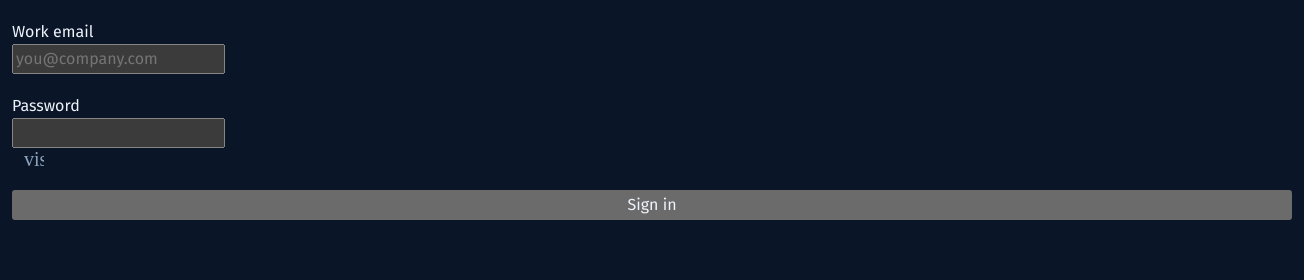
Test: LoginForm › shows a generic message for invalid credentials and re-enables the form
Type "dev@acme.io" into the field labelled "Work email".
click(118, 59); type("dev@acme.io")  # box x1=12 y1=44 x2=225 y2=74
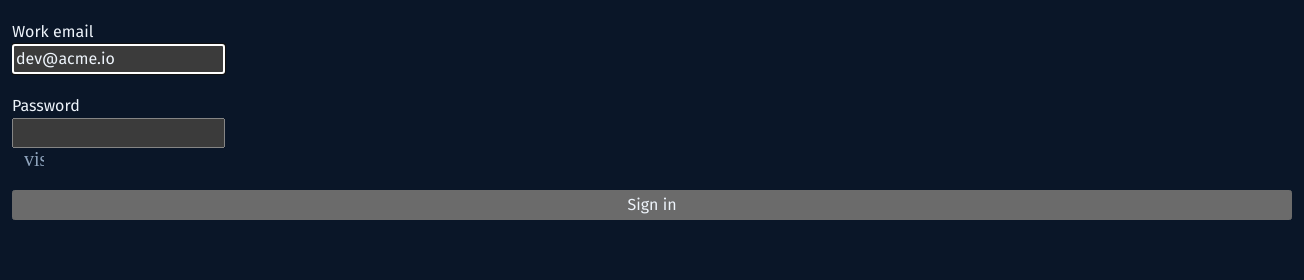
Type "s3cret-pass" into the password field labelled "Password".
click(118, 133); type("s3cret-pass")  # box x1=12 y1=118 x2=225 y2=148
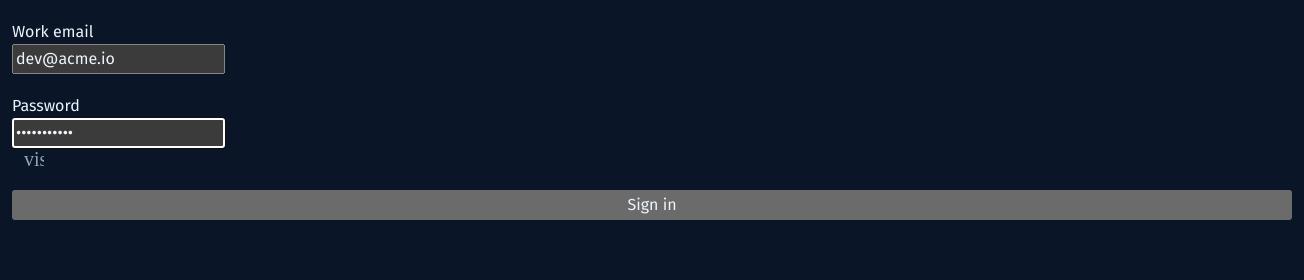
Click the button "Sign in".
click(652, 205)  # box x1=12 y1=190 x2=1292 y2=220
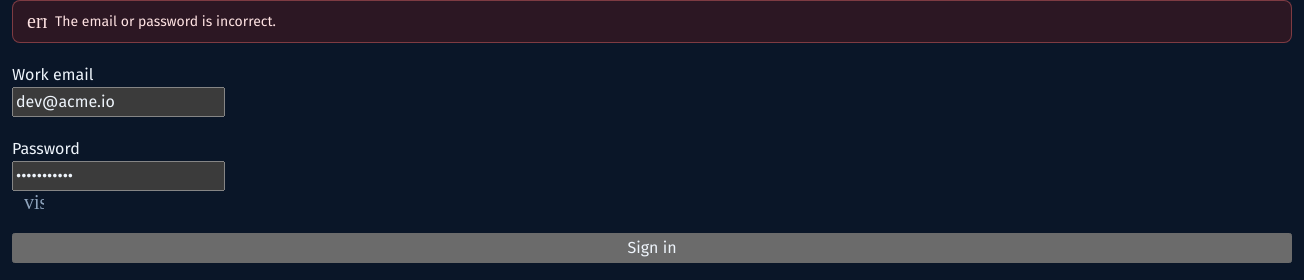
Expected: the button "Sign in" is enabled, x1=12 y1=233 x2=1292 y2=263
Expected: the message reads "The email or password is incorrect.", x1=55 y1=13 x2=276 y2=30
